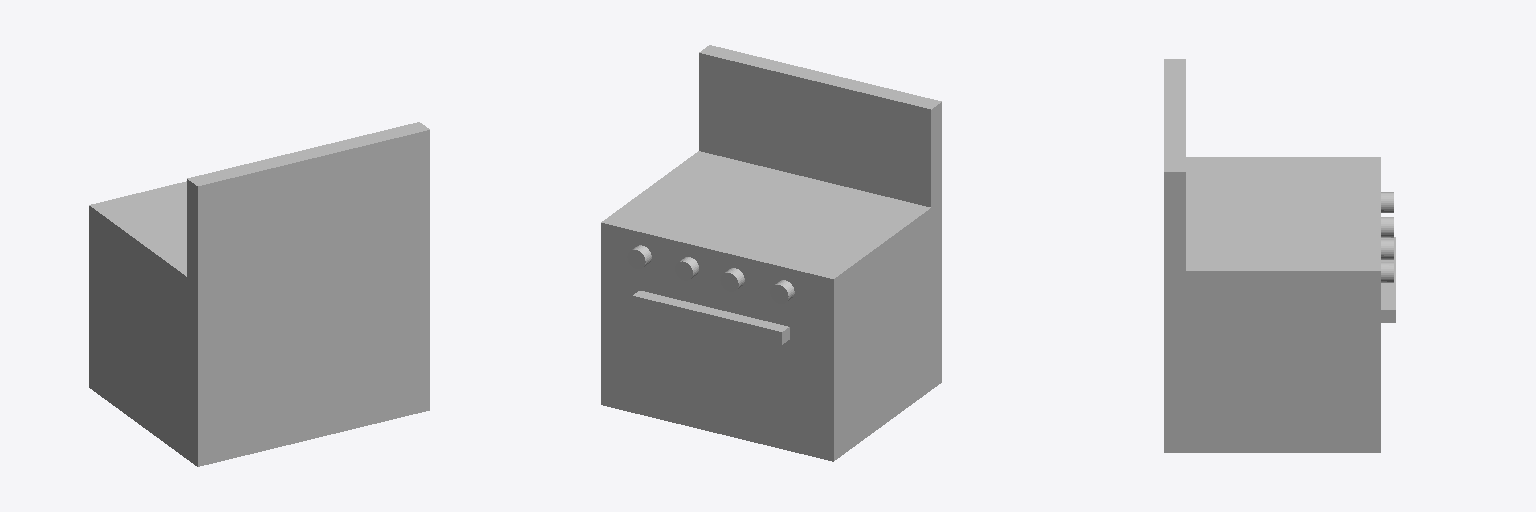
Rendered from stove.obj.
3 views of the same model, side by side, from view 1: azimuth 30°, elevation 25°; view 2: azimuth 150°, elevation 25°; view 3: azimuth 270°, elevation 25° (orthographic).
Parts seen in each view (by area): view 1: Cube; view 2: Cube, Cube.001; view 3: Cube, Cube.001.
Boxes of the visible parts, <box> form: Cube: <box>89,122,429,466</box>; Cube: <box>601,45,941,461</box>; Cube.001: <box>633,291,789,344</box>; Cube: <box>1164,59,1380,452</box>; Cube.001: <box>1381,237,1395,322</box>.
Size of the model in its own units: 3.11 by 3.58 by 2.68.